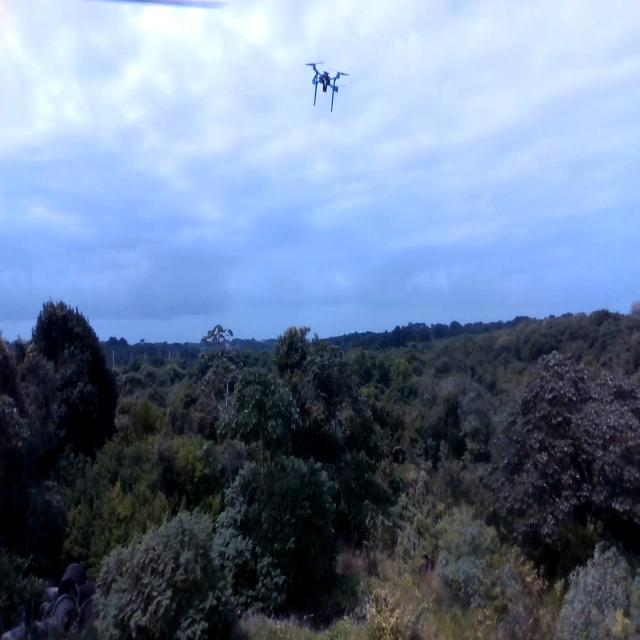-uav-: (300, 46, 352, 129)
